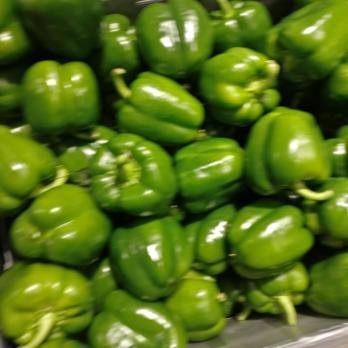Capsicum: (2, 1, 348, 314)
